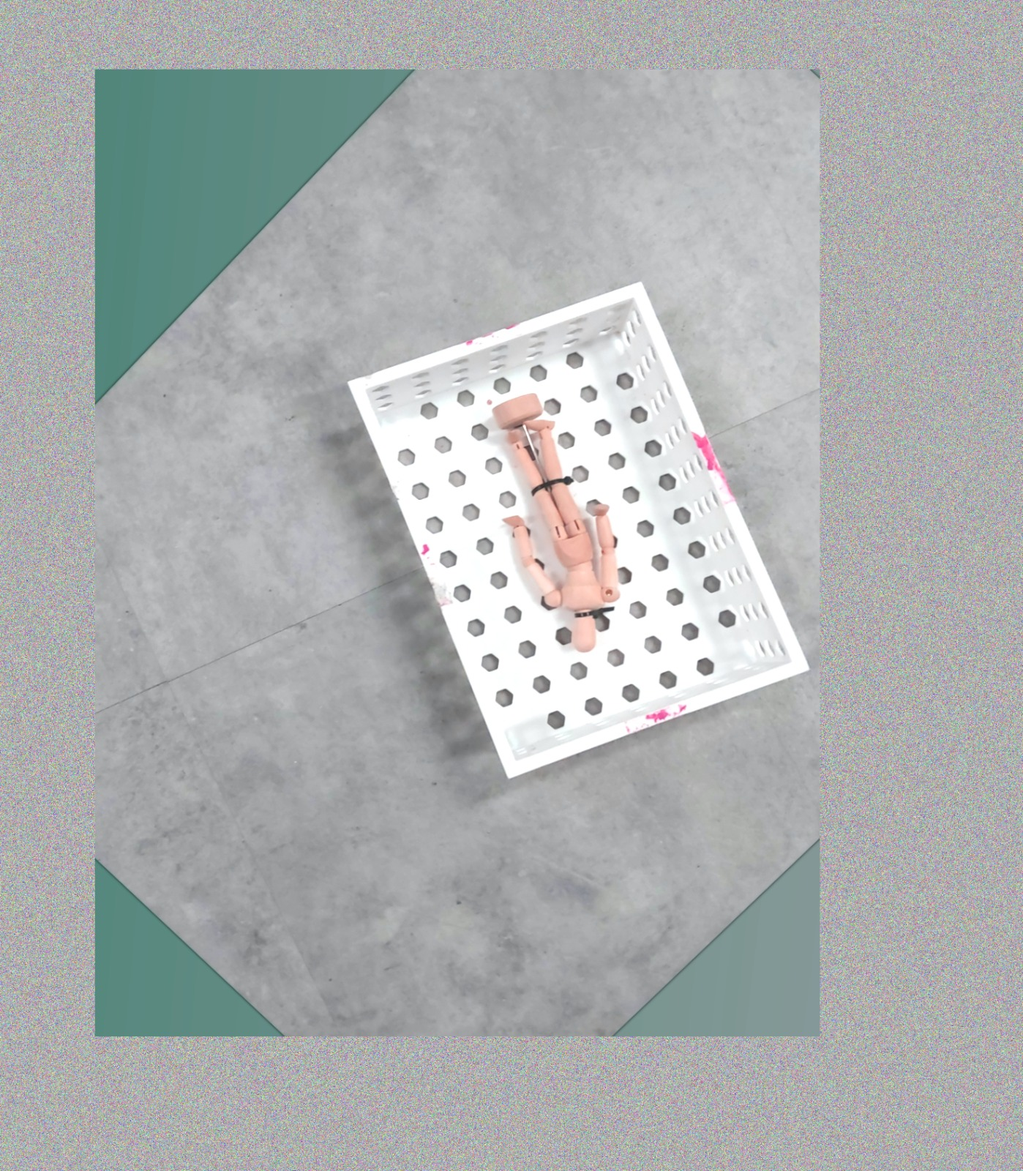basket: (339, 274, 818, 793)
mannequin: (487, 387, 627, 657)
